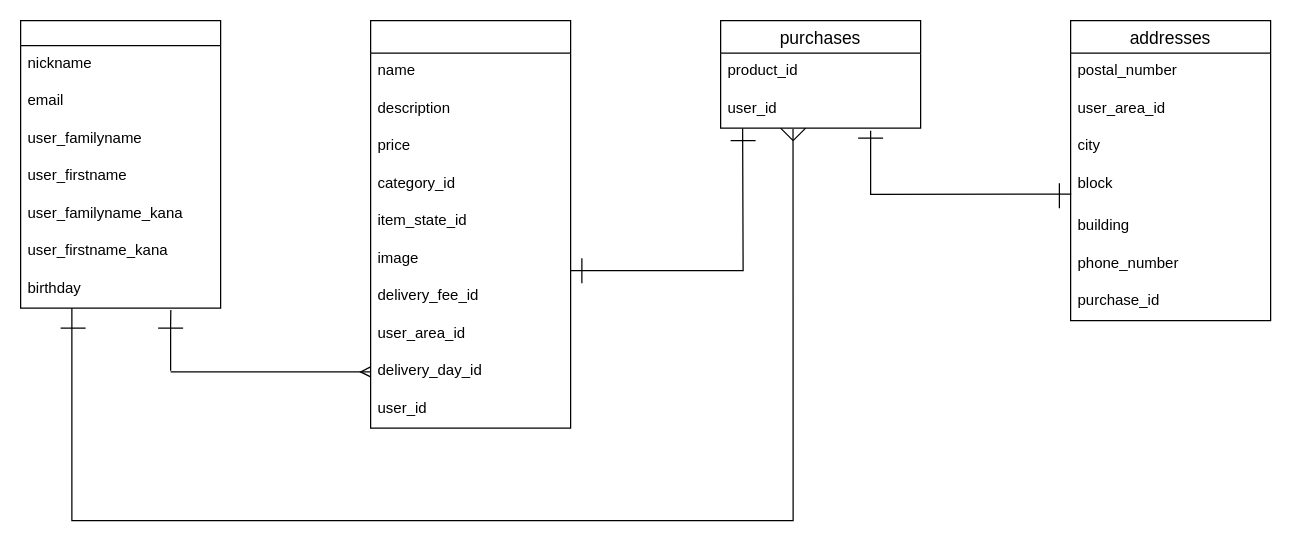
This 1291x541 diagram has some shape labels left out. The box of each missing label's shape, as (x1, y1, x2, y2) in pixels:
products: (369, 19, 571, 428)
users: (19, 19, 221, 308)
